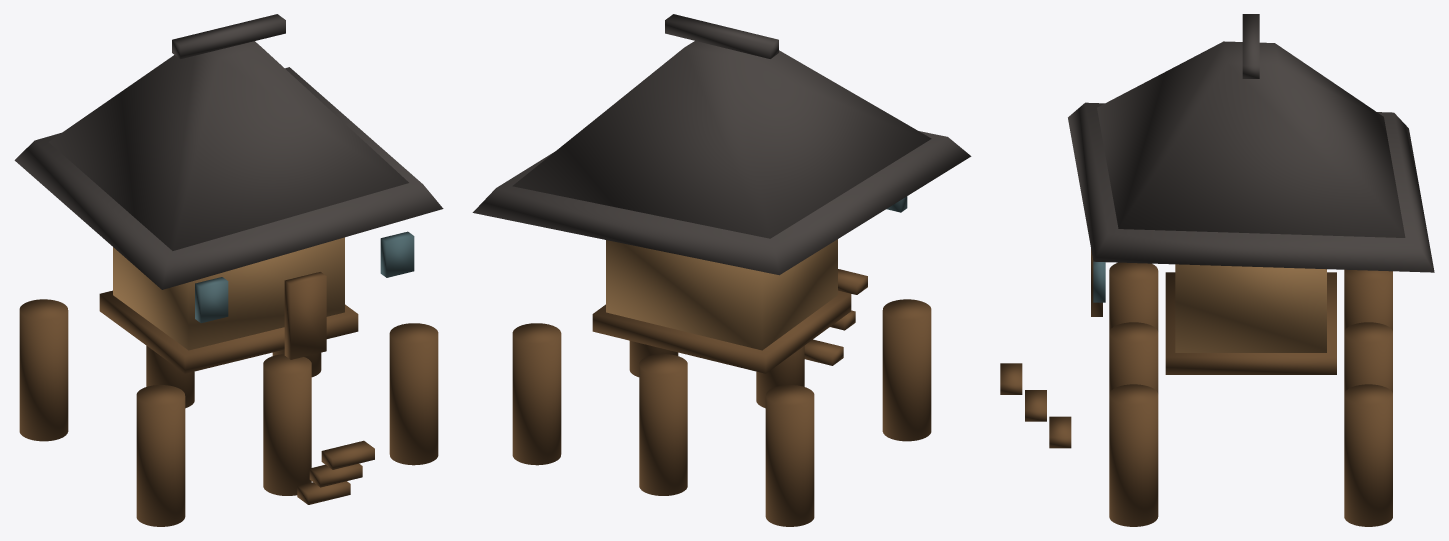
The model's file is rumah_panggung.obj.
The picture shows the model from 3 angles, left to right: view 1: azimuth 30°, elevation 25°; view 2: azimuth 150°, elevation 25°; view 3: azimuth 270°, elevation 25°; orthographic projection.
Visible parts, largest first — view 1: Cone; view 2: Cone; view 3: Cone.
Boxes of the visible parts, x1=… form: Cone: x1=14, y1=14, x2=443, y2=526; Cone: x1=472, y1=14, x2=971, y2=526; Cone: x1=1000, y1=14, x2=1434, y2=526.
Bounding box in the file's own units: 1.5 × 1.87 × 1.77.
